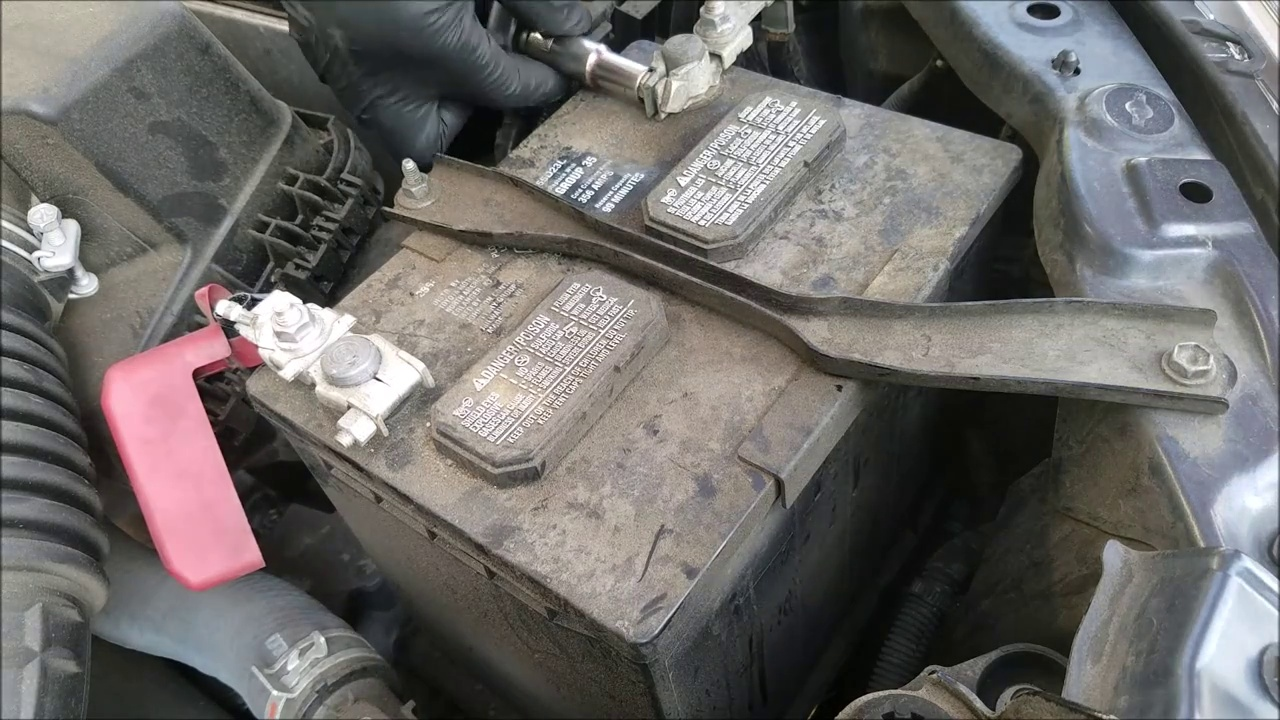battery: (242, 49, 1001, 636)
neg_connected: (623, 10, 783, 137)
pos_connected: (131, 258, 413, 467)
